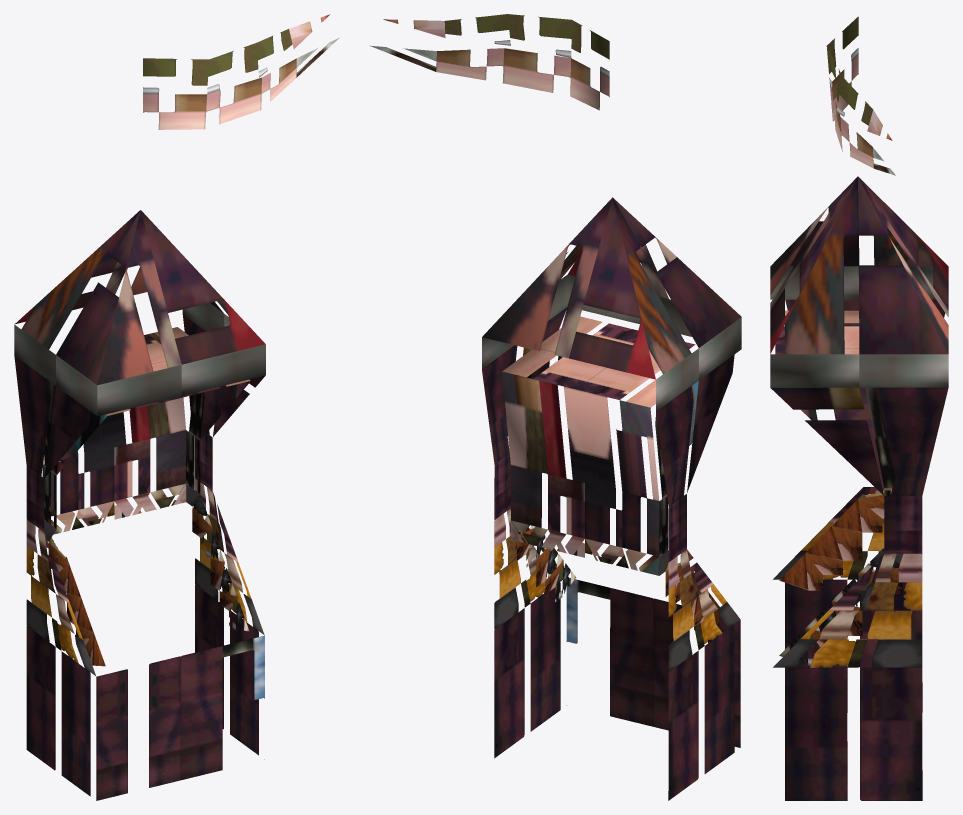
The picture shows the model from 3 angles, left to right: view 1: azimuth 30°, elevation 25°; view 2: azimuth 150°, elevation 25°; view 3: azimuth 270°, elevation 25°; orthographic projection. The views are drawn at different scales.
Visible parts, largest first — view 1: T1L2M007_18; view 2: T1L2M007_18; view 3: T1L2M007_18.
Part boxes in pixels (x1=…): T1L2M007_18: x1=14, y1=14, x2=339, y2=800; T1L2M007_18: x1=369, y1=14, x2=741, y2=800; T1L2M007_18: x1=770, y1=16, x2=948, y2=800.
Size of the model in its own units: 4.08 by 8.95 by 1.95.
